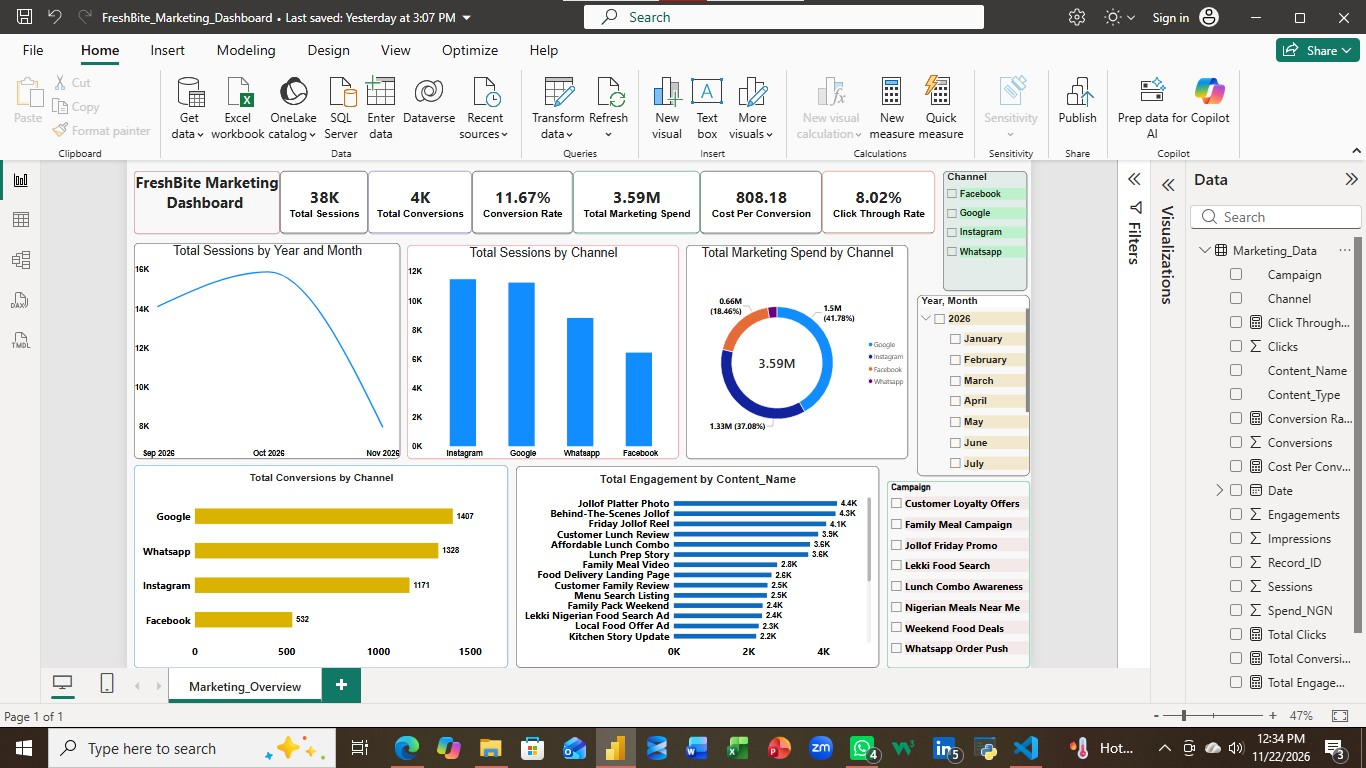

Layout of this report page (visuals, bound fields, positions):
{"tool":"powerbi","page":{"name":"Marketing_Overview","canvas":[1920,1080],"ordinal":0},"visuals":[{"type":"lineChart","fields":{"Category":["Marketing_Data.Date.Variation.Date Hierarchy.Year","Marketing_Data.Date.Variation.Date Hierarchy.Month"],"Y":["Marketing_Data.Total Sessions"]},"box":[14.9,176.5,565.5,459.2],"z":0},{"type":"columnChart","fields":{"Category":["Marketing_Data.Channel"],"Y":["Marketing_Data.Total Sessions"]},"box":[595.3,180.7,578.3,455],"z":1000},{"type":"clusteredBarChart","fields":{"Category":["Marketing_Data.Channel"],"Y":["Marketing_Data.Total Conversions"]},"box":[14.9,648.4,795.1,431.6],"z":2000},{"type":"clusteredBarChart","fields":{"Category":["Marketing_Data.Content_Name"],"Y":["Marketing_Data.Total Engagement"]},"box":[827,650.6,771.7,429.4],"z":3000},{"type":"donutChart","fields":{"Category":["Marketing_Data.Channel"],"Y":["Marketing_Data.Total Marketing Spend"]},"box":[1188.4,180.7,472,455],"z":4000},{"type":"textbox","box":[14.9,23.4,310.4,133.9],"z":5000},{"type":"slicer","fields":{"Values":["Marketing_Data.Channel"]},"box":[1734.8,23.4,178.6,255.1],"z":6000},{"type":"slicer","fields":{"Values":["Marketing_Data.Campaign"]},"box":[1615.7,682.4,304,397.6],"z":7000},{"type":"cardVisual","fields":{"Data":["Marketing_Data.Total Sessions"]},"box":[325.3,23.4,187.1,133.9],"z":8000},{"type":"cardVisual","fields":{"Data":["Marketing_Data.Total Conversions"]},"box":[512.4,23.4,221.1,133.9],"z":9000},{"type":"cardVisual","fields":{"Data":["Marketing_Data.Conversion Rate"]},"box":[733.5,23.4,214.7,133.9],"z":10000},{"type":"cardVisual","fields":{"Data":["Marketing_Data.Total Marketing Spend"]},"box":[948.2,23.4,270,133.9],"z":11000},{"type":"cardVisual","fields":{"Data":["Marketing_Data.Cost Per Conversion"]},"box":[1218.2,23.4,259.4,133.9],"z":12000},{"type":"cardVisual","fields":{"Data":["Marketing_Data.Click Through Rate"]},"box":[1477.6,23.4,240.2,133.9],"z":13000},{"type":"slicer","fields":{"Values":["Marketing_Data.Date.Variation.Date Hierarchy.Year","Marketing_Data.Date.Variation.Date Hierarchy.Month"]},"box":[1679.5,287,240.2,384.8],"z":14000}]}

Visuals, with their boxes on the page's 1920x1080 design canvas (x1, y1, x2, y2). These are canvas units, not pixel positions in the 1366x768 screenshot, which may show the page scaled, cropped or inside an application window:
lineChart - Marketing_Data.Date.Variation.Date Hierarchy.Year x Marketing_Data.Date.Variation.Date Hierarchy.Month: <region>15, 176, 580, 636</region>
columnChart - Marketing_Data.Channel x Marketing_Data.Total Sessions: <region>595, 181, 1174, 636</region>
clusteredBarChart - Marketing_Data.Channel x Marketing_Data.Total Conversions: <region>15, 648, 810, 1080</region>
clusteredBarChart - Marketing_Data.Content_Name x Marketing_Data.Total Engagement: <region>827, 651, 1599, 1080</region>
donutChart - Marketing_Data.Channel x Marketing_Data.Total Marketing Spend: <region>1188, 181, 1660, 636</region>
textbox: <region>15, 23, 325, 157</region>
slicer - Marketing_Data.Channel: <region>1735, 23, 1913, 278</region>
slicer - Marketing_Data.Campaign: <region>1616, 682, 1920, 1080</region>
cardVisual - Marketing_Data.Total Sessions: <region>325, 23, 512, 157</region>
cardVisual - Marketing_Data.Total Conversions: <region>512, 23, 734, 157</region>
cardVisual - Marketing_Data.Conversion Rate: <region>734, 23, 948, 157</region>
cardVisual - Marketing_Data.Total Marketing Spend: <region>948, 23, 1218, 157</region>
cardVisual - Marketing_Data.Cost Per Conversion: <region>1218, 23, 1478, 157</region>
cardVisual - Marketing_Data.Click Through Rate: <region>1478, 23, 1718, 157</region>
slicer - Marketing_Data.Date.Variation.Date Hierarchy.Year x Marketing_Data.Date.Variation.Date Hierarchy.Month: <region>1680, 287, 1920, 672</region>
